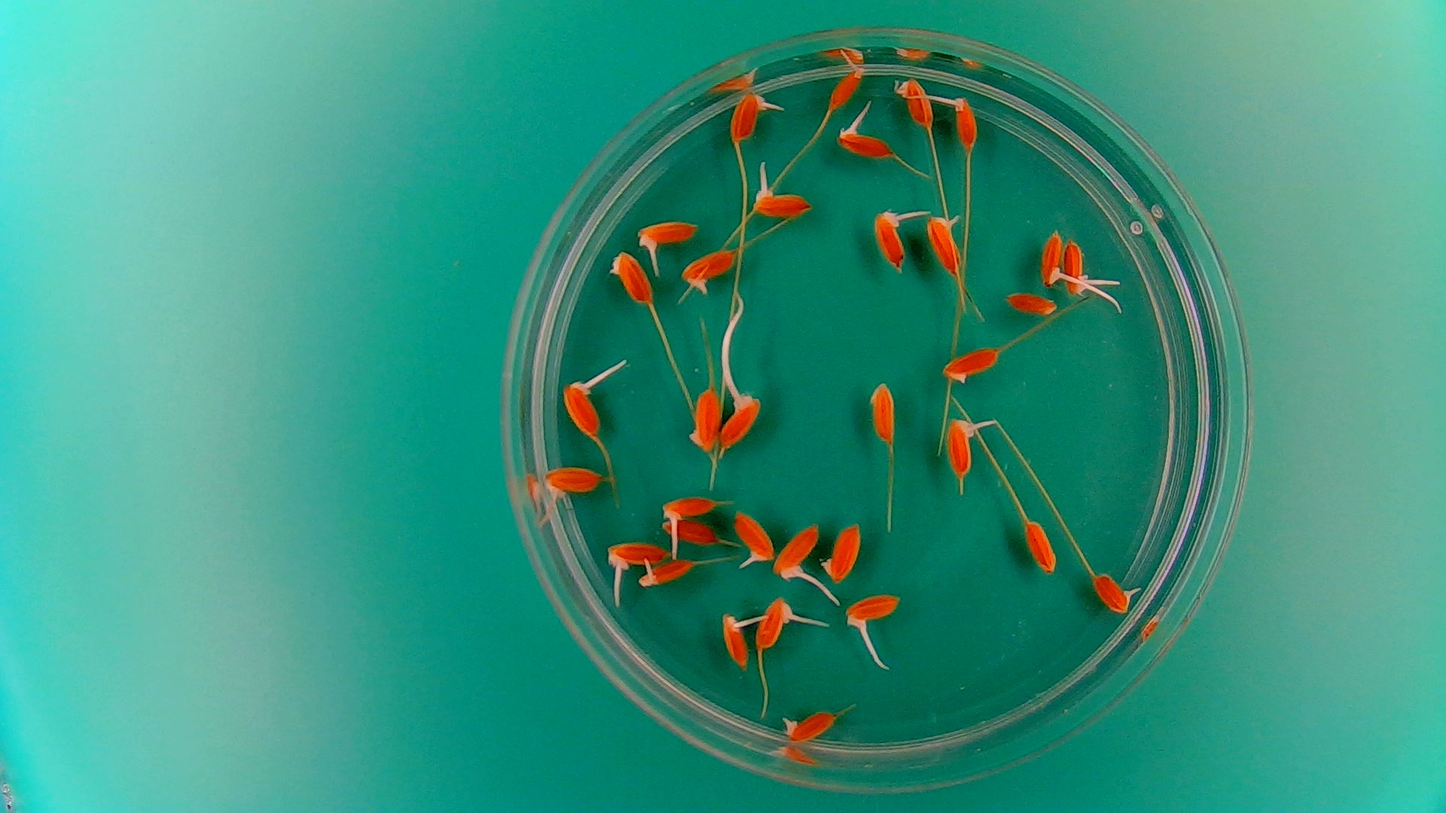no: (606, 249, 653, 307), (821, 521, 863, 583), (941, 343, 1002, 385), (685, 385, 720, 454), (866, 377, 898, 445), (1022, 517, 1060, 574), (895, 75, 936, 127), (659, 519, 719, 547), (1002, 288, 1058, 317)
yes: (539, 463, 605, 531), (657, 484, 721, 534), (560, 371, 602, 440), (602, 537, 670, 579), (773, 521, 819, 583), (720, 389, 764, 451), (731, 507, 776, 565), (871, 206, 911, 271), (926, 209, 962, 276), (729, 86, 770, 144), (635, 556, 700, 592), (681, 246, 737, 287), (638, 217, 700, 254), (779, 707, 840, 744), (944, 413, 979, 477), (718, 610, 754, 671), (748, 185, 815, 217), (758, 595, 795, 652), (942, 92, 979, 149), (845, 592, 898, 631), (835, 127, 898, 159), (1064, 236, 1096, 298), (1092, 571, 1138, 614), (826, 60, 865, 110), (1039, 227, 1066, 289)
